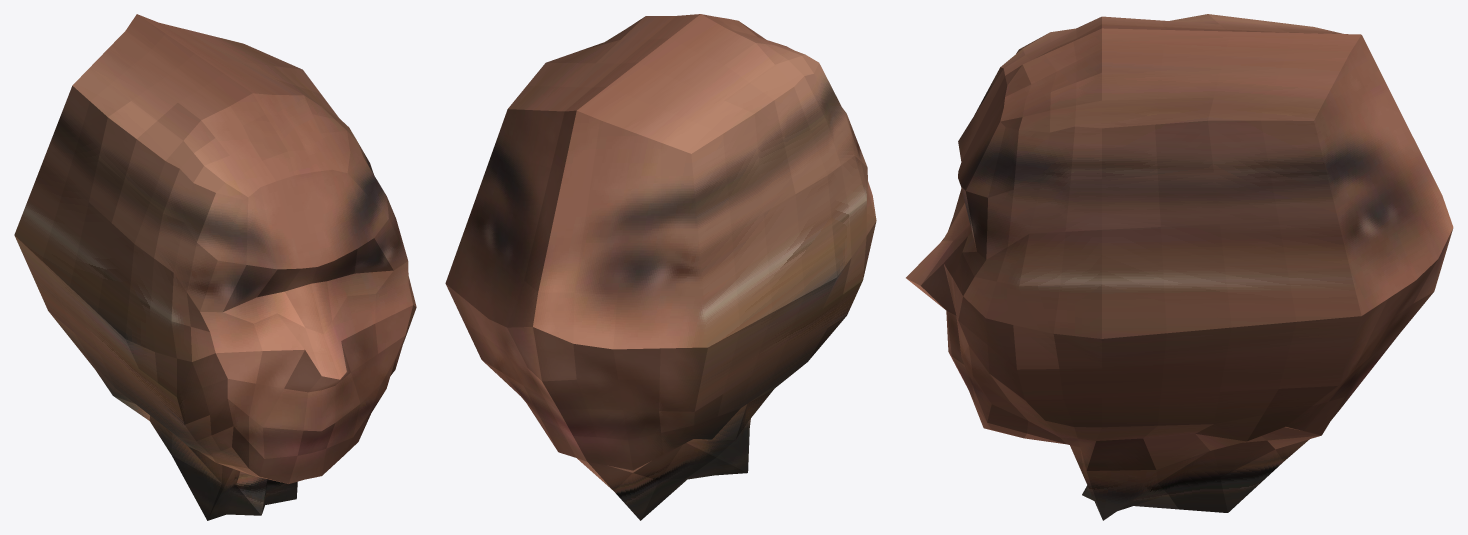
Rendered from timmy 3d model.glb.
3 renders of one model, left to right at view 1: azimuth 30°, elevation 25°; view 2: azimuth 150°, elevation 25°; view 3: azimuth 270°, elevation 25°, orthographic. The views are drawn at different scales.
Visible parts, largest first — view 1: Roundcube; view 2: Roundcube; view 3: Roundcube.
Part boxes in pixels (bbox=[...]): Roundcube: bbox=[14, 14, 416, 520]; Roundcube: bbox=[445, 14, 876, 520]; Roundcube: bbox=[906, 14, 1453, 520].
Bounding box in the file's own units: 1.02 × 1.66 × 1.7.
1 material, 1 textured.
